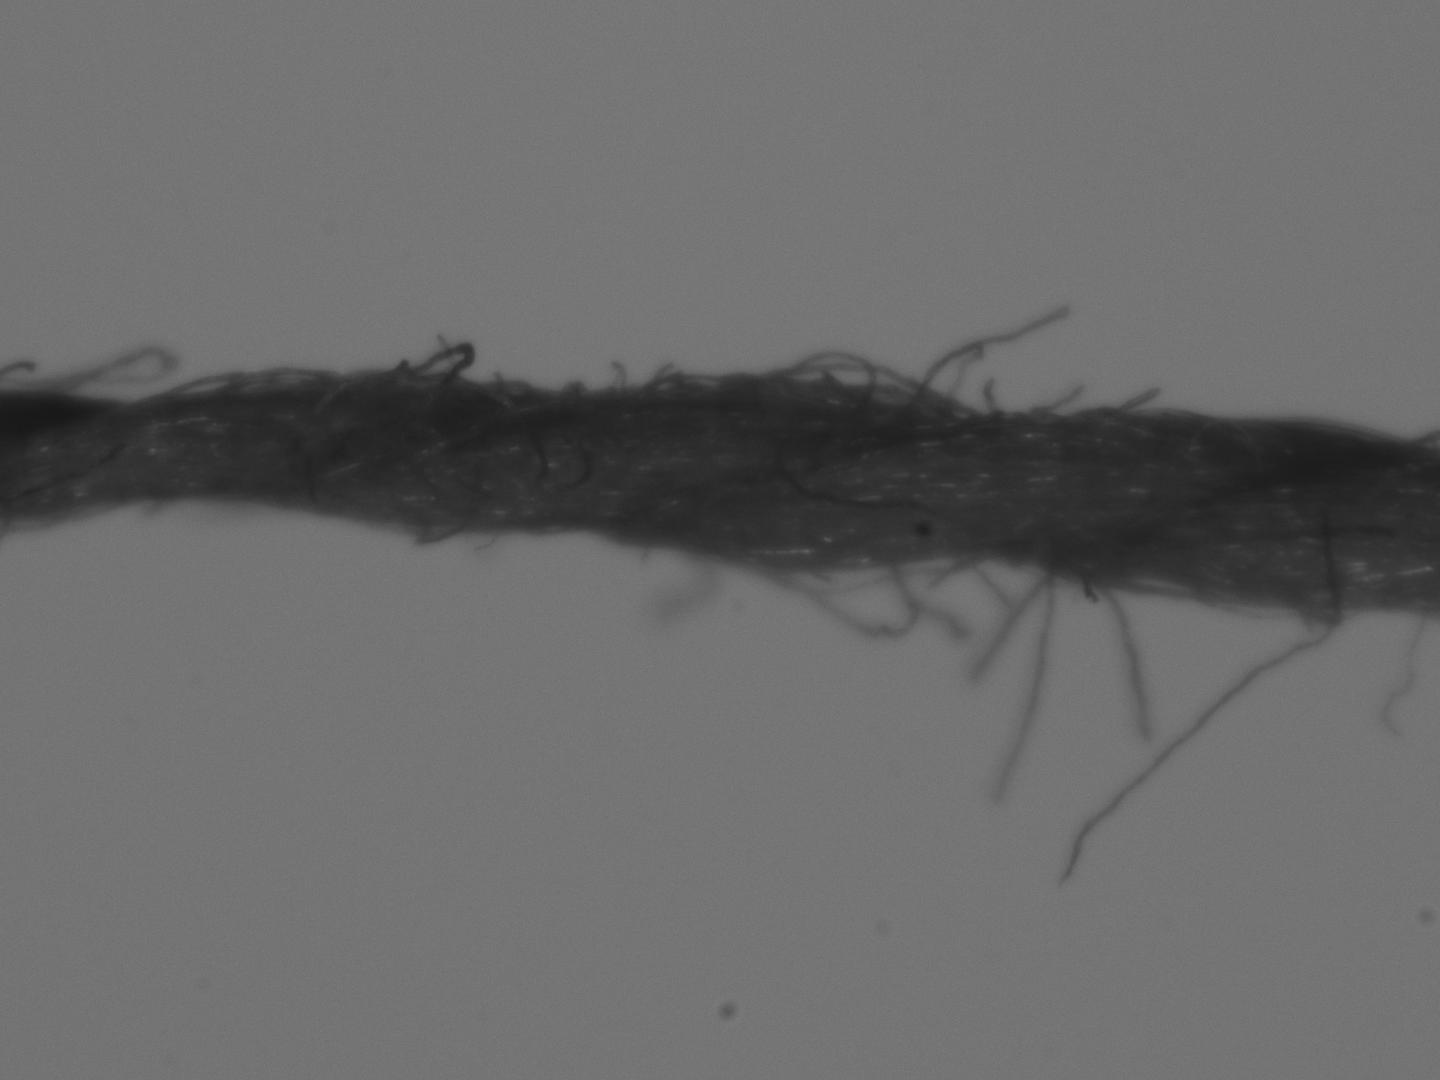loop_fiber: (641, 348, 975, 417), (744, 552, 994, 640), (14, 353, 169, 394), (345, 345, 474, 380)
protruding_fiber: (1052, 604, 1350, 889), (913, 299, 1074, 400), (1000, 568, 1059, 802), (969, 571, 1053, 681), (1095, 583, 1152, 734), (1374, 613, 1431, 745), (884, 555, 966, 641)
